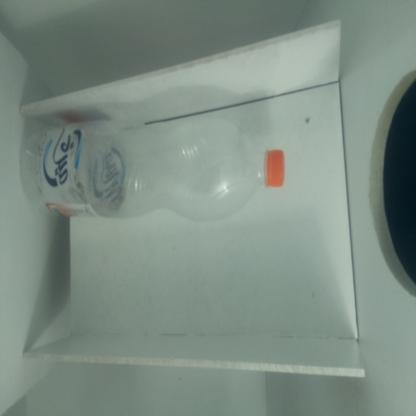bottle: (22, 114, 292, 228)
